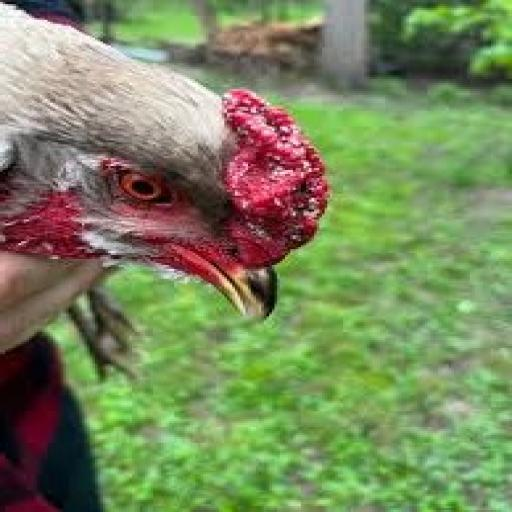disease: (216, 77, 338, 280)
